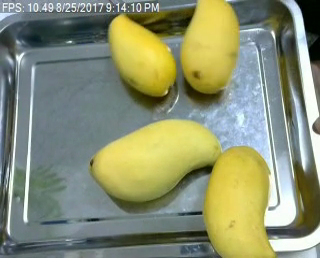Mango: (87, 114, 222, 203), (202, 140, 276, 255), (103, 11, 177, 98), (178, 2, 244, 96)
